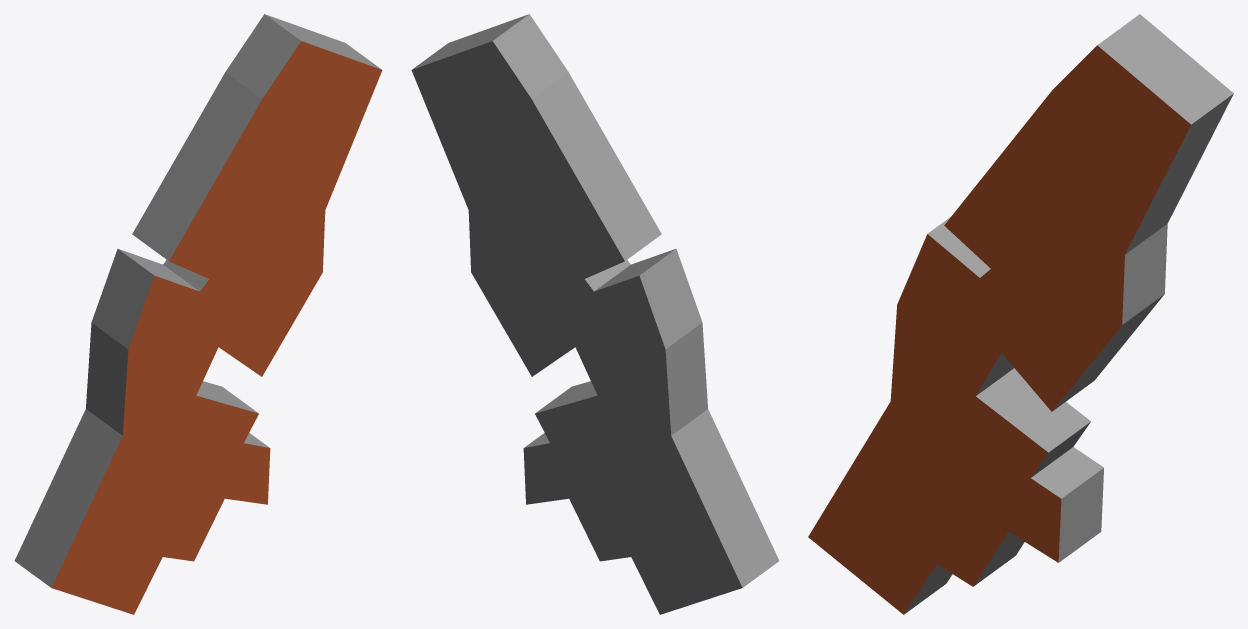
Rendered from construction_2601_assumed_A_Casa_h6m.obj.
3 renders of one model, left to right at view 1: azimuth 30°, elevation 25°; view 2: azimuth 150°, elevation 25°; view 3: azimuth 330°, elevation 25°, orthographic. The views are drawn at different scales.
Parts seen in each view (by area): view 1: construction_2601_assumed_A_Casa; view 2: construction_2601_assumed_A_Casa; view 3: construction_2601_assumed_A_Casa.
Boxes of the visible parts, left/top/right/bottom form: construction_2601_assumed_A_Casa: left=14, top=14, right=382, bottom=614; construction_2601_assumed_A_Casa: left=411, top=14, right=779, bottom=614; construction_2601_assumed_A_Casa: left=808, top=14, right=1233, bottom=614.
Bounding box in the file's own units: 31.08 × 47.81 × 6.
